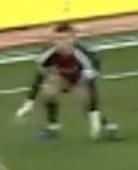goalkeeper: (15, 16, 138, 162)
